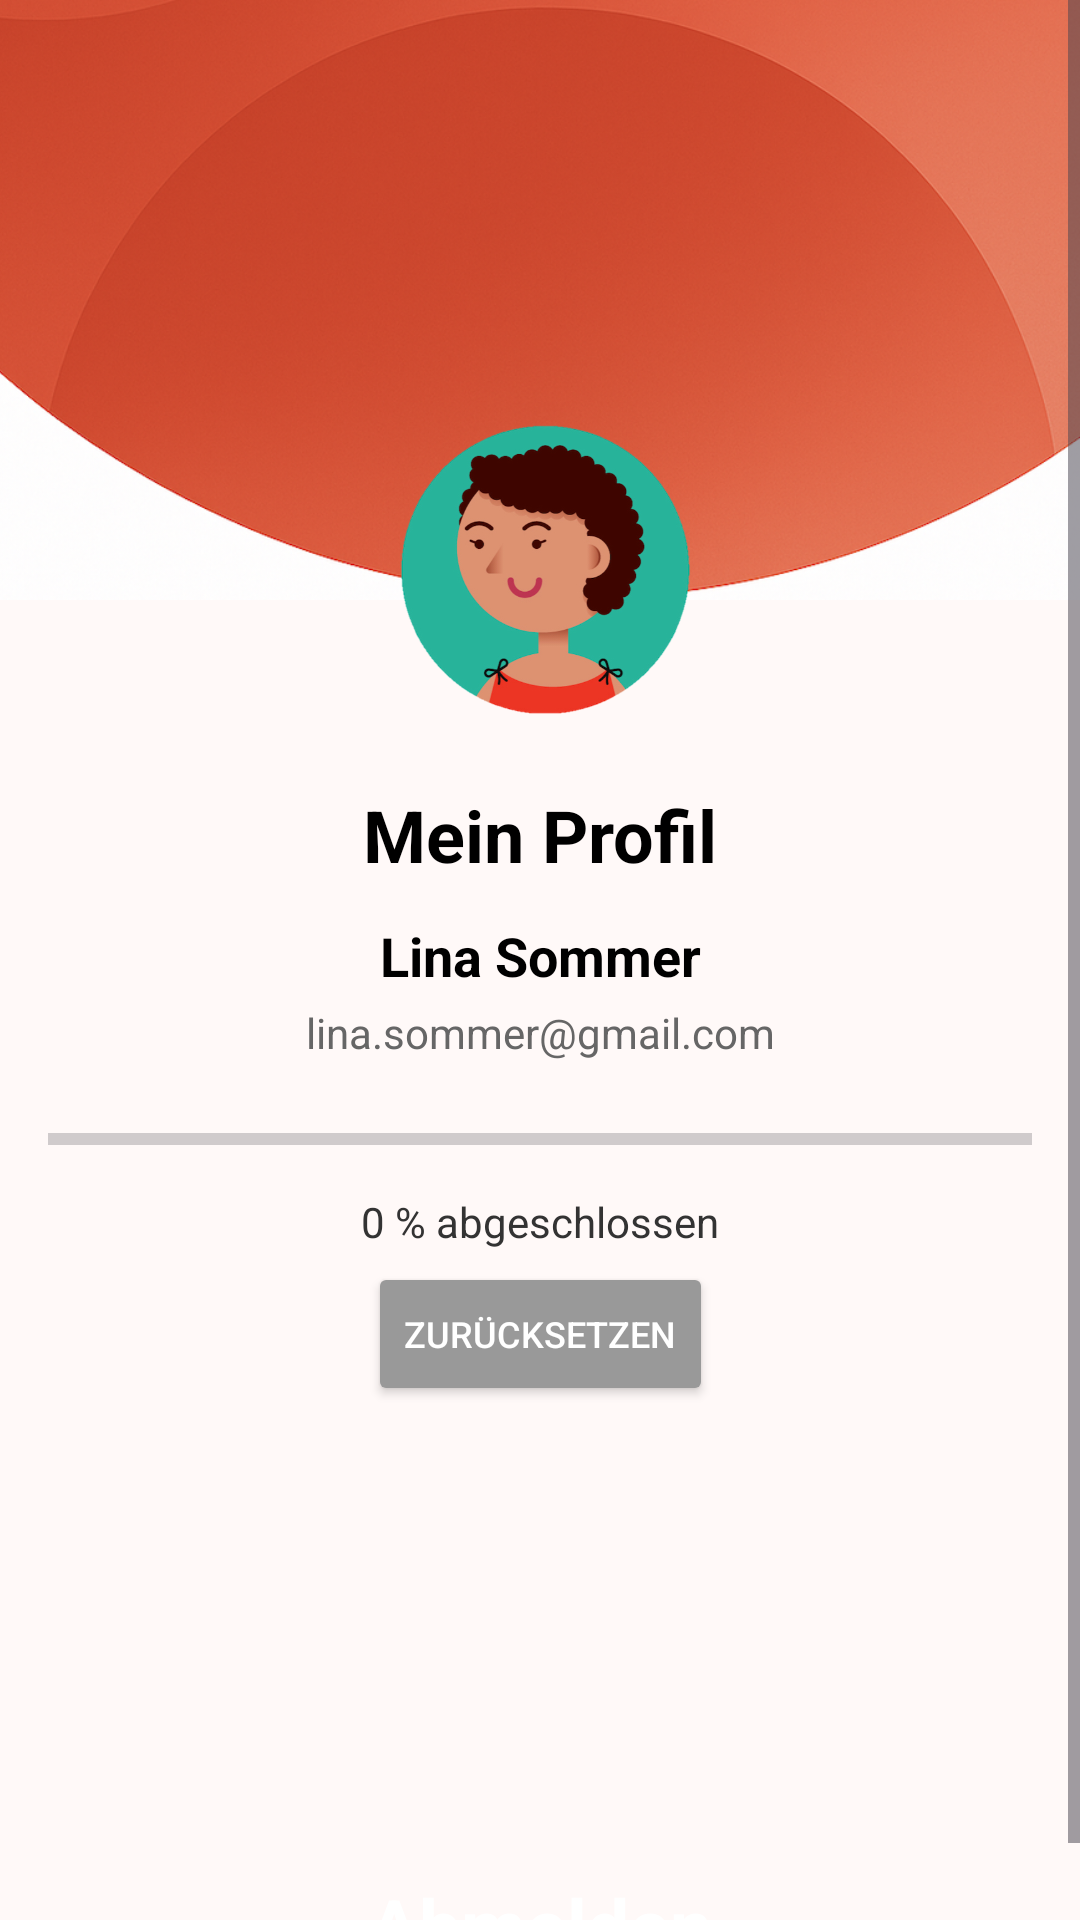

Icons on this 1080px x 1920px Android screen, each with the point to tap as [x,y]:
Profilbild auswählen: [540,570]
